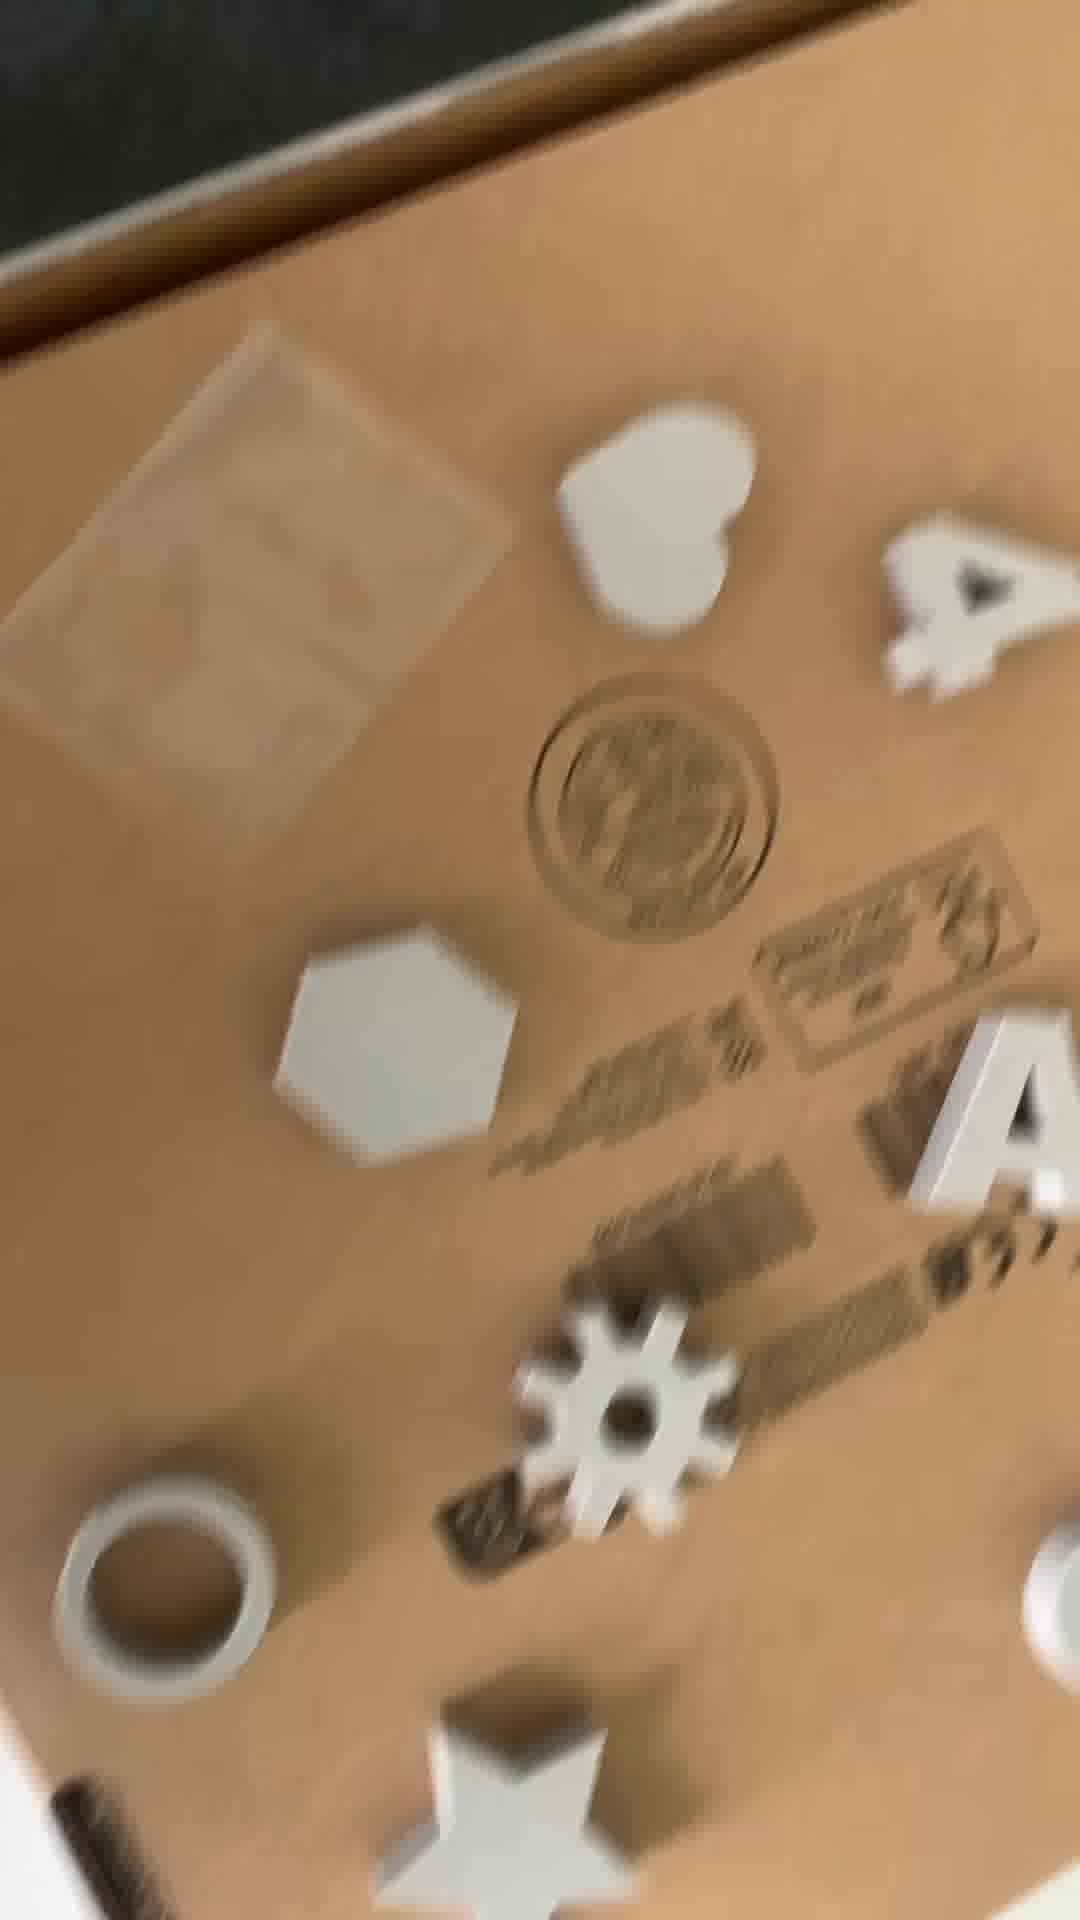Gray A-letter: (901, 982, 1067, 1270)
Gray four: (858, 516, 1080, 720)
Gray gear: (504, 1295, 752, 1540)
Gray heart: (535, 404, 765, 646)
Gray hexagon: (266, 924, 526, 1178)
Gray ring: (59, 1485, 286, 1708)
Gray star: (382, 1710, 653, 1920)
